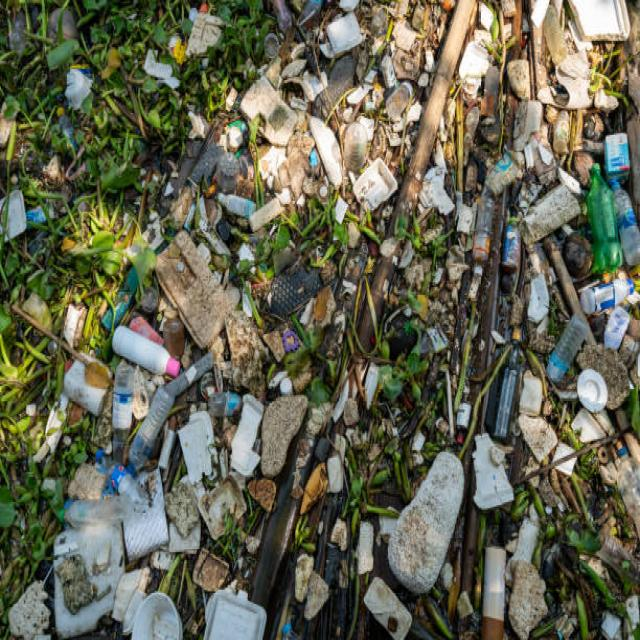plastic: (72, 108, 315, 538)
